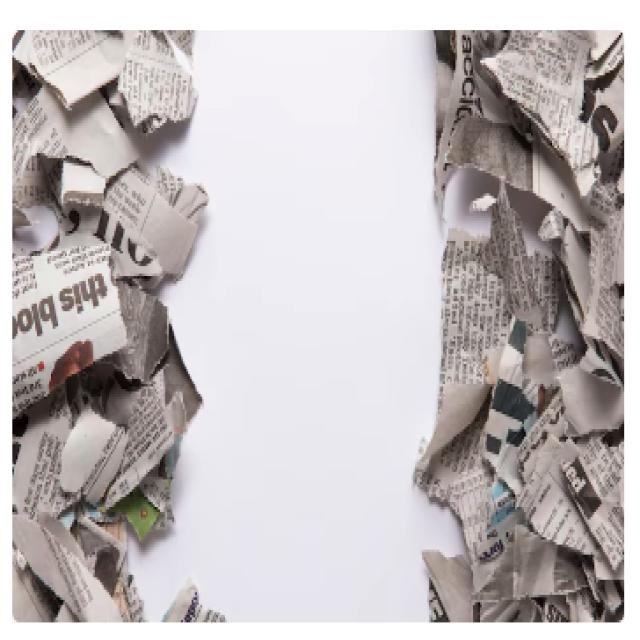Koran: (412, 28, 624, 620), (11, 28, 223, 620)
